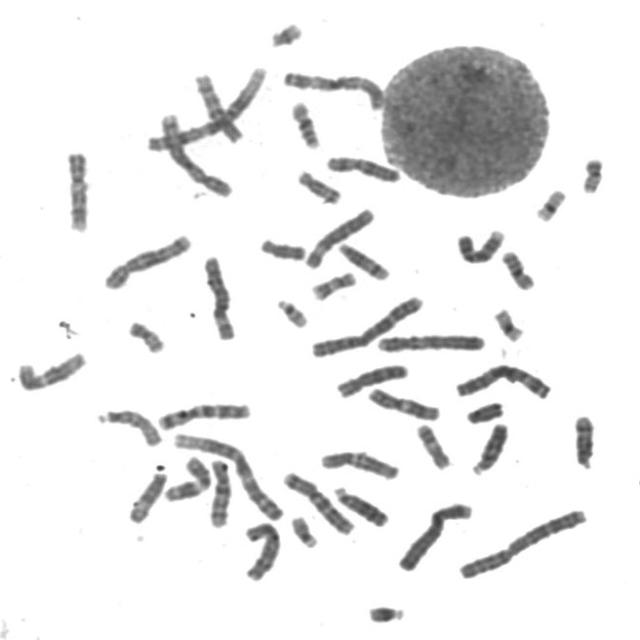A1: (140, 60, 270, 154), (167, 428, 288, 524)
A2: (455, 502, 592, 581), (306, 290, 426, 360)
A3: (278, 65, 388, 112), (450, 358, 555, 401)
B4: (393, 497, 475, 573), (372, 328, 488, 354)
B5: (155, 106, 235, 198), (99, 229, 194, 291)
C10: (189, 67, 247, 144), (204, 453, 236, 530)
C11: (363, 382, 444, 422), (160, 451, 214, 503)
C12: (12, 346, 90, 393), (316, 445, 403, 481)
C6: (300, 202, 378, 270), (198, 250, 239, 342)
C7: (279, 466, 358, 537), (153, 396, 255, 432)
C8: (332, 358, 412, 399), (238, 516, 285, 585)
C9: (61, 146, 94, 234), (453, 223, 508, 266)
D13: (330, 480, 392, 529), (468, 418, 512, 477)
D14: (334, 238, 392, 282), (569, 410, 600, 470)
D15: (93, 404, 165, 448), (123, 467, 170, 525)
E16: (286, 95, 324, 150), (498, 245, 538, 292)
E17: (412, 418, 454, 472), (306, 266, 360, 302)
E18: (294, 168, 344, 206), (256, 233, 308, 262)
F19: (530, 184, 570, 223), (489, 303, 528, 343)
F20: (123, 315, 168, 355), (576, 152, 606, 195)
G21: (264, 17, 306, 49), (363, 599, 409, 625)
G22: (286, 513, 328, 551), (271, 294, 311, 329)
X: (322, 150, 404, 185)
Y: (462, 396, 508, 426)
